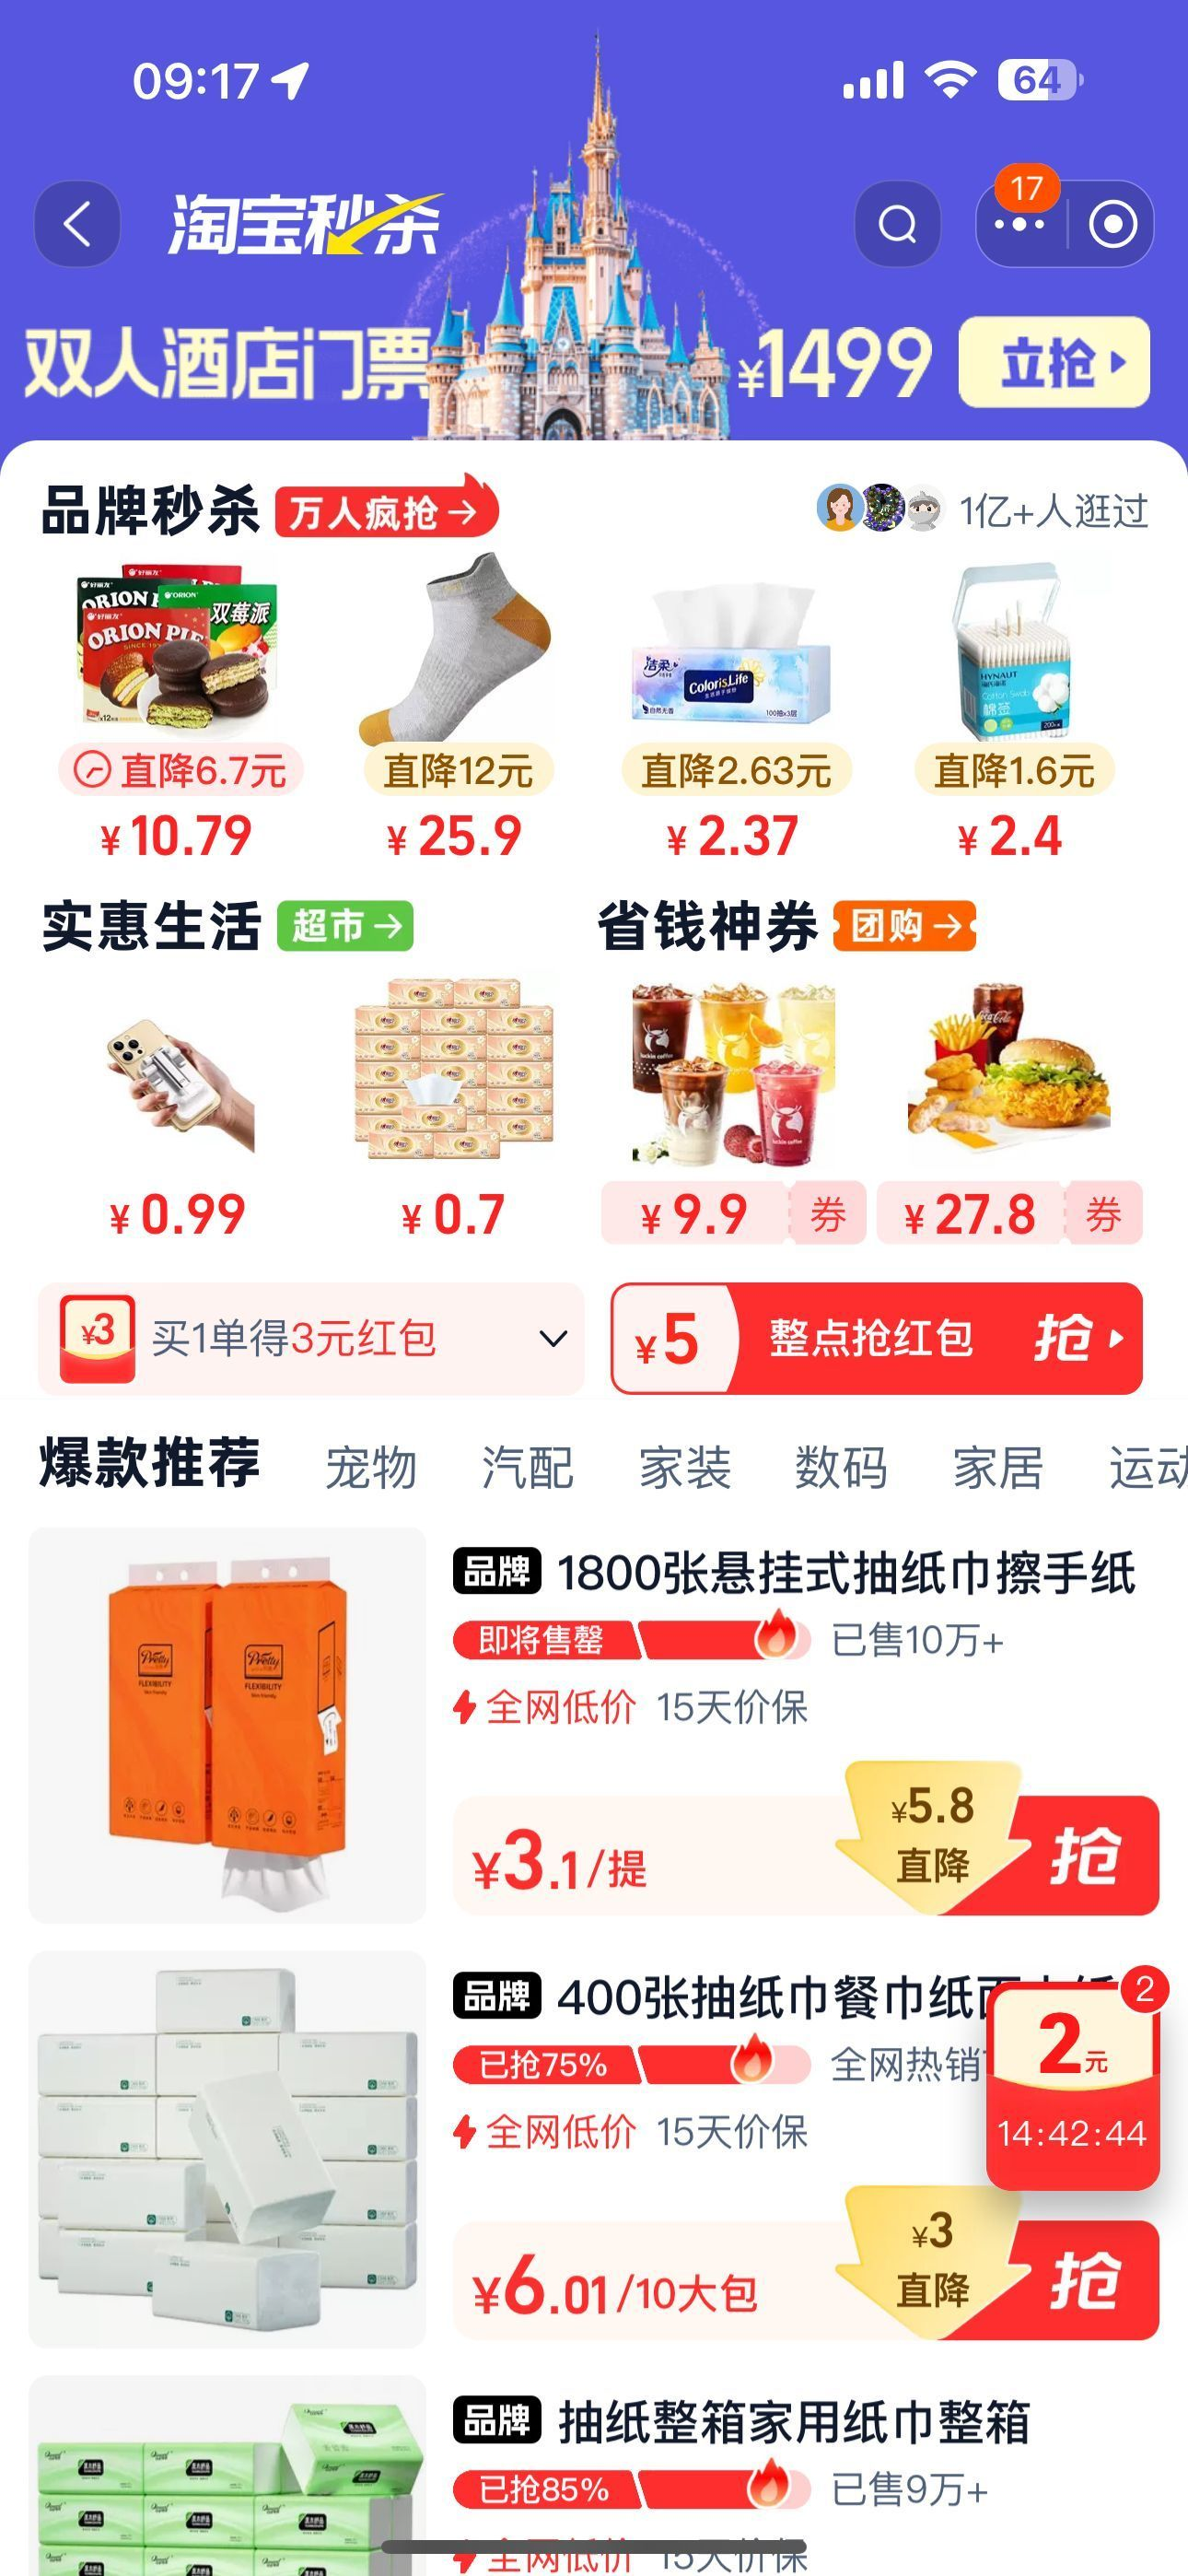banner: (8, 1257, 1181, 1421)
item: (2, 1952, 1186, 2400), (5, 1511, 1188, 1940)
op_bar: (8, 472, 1186, 885), (2, 159, 1188, 306)
